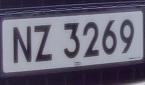2: (80, 19, 102, 59)
3: (61, 20, 83, 61)
6: (99, 17, 120, 59)
9: (117, 16, 138, 57)
N: (12, 21, 34, 70)
Z: (33, 20, 56, 67)
